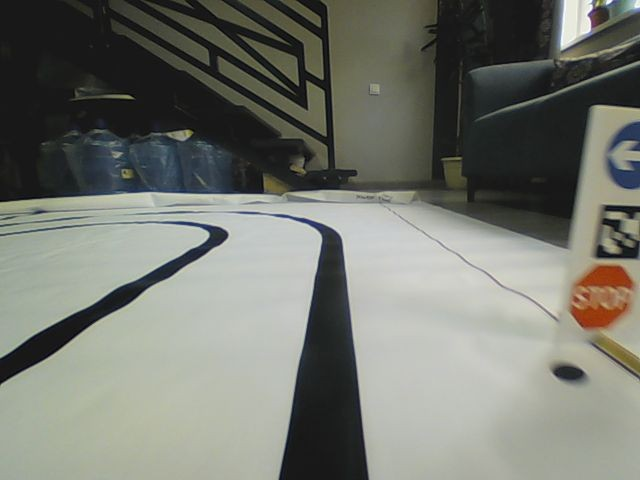Stop: (568, 262, 632, 333)
